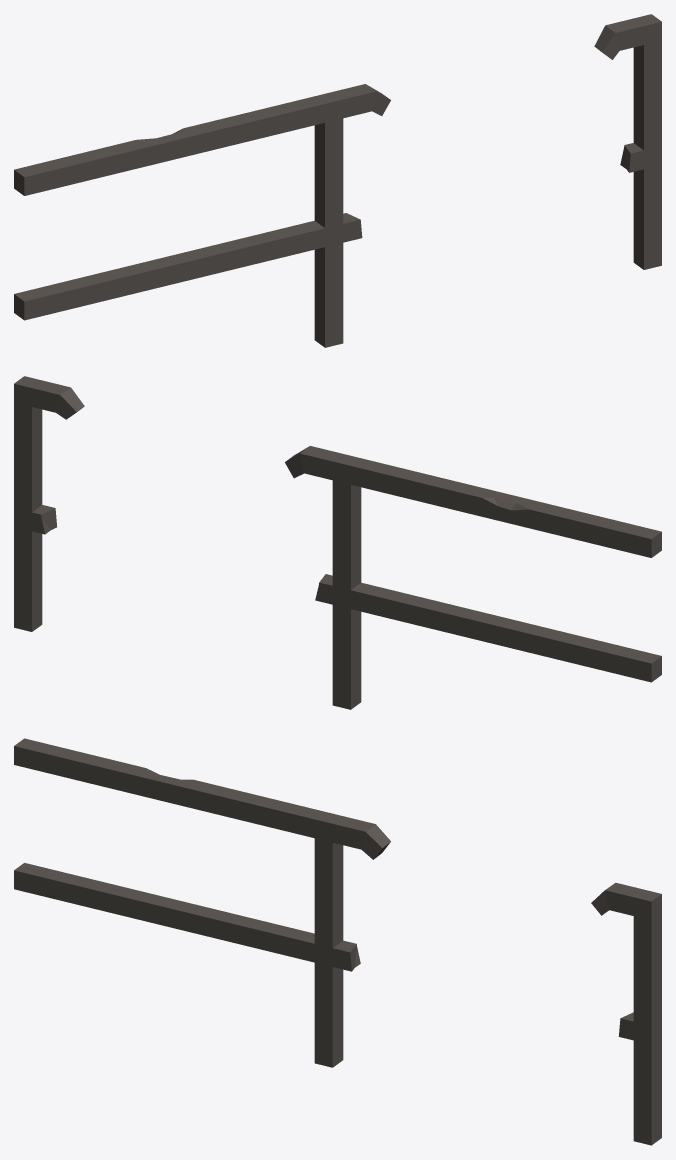
Rendered from Wh_Safety_Rail_Damaged.fbx.
3 views of the same model, one above another, from view 1: azimuth 30°, elevation 25°; view 2: azimuth 150°, elevation 25°; view 3: azimuth 330°, elevation 25° (orthographic).
Parts seen in each view (by area): view 1: Cube.672; view 2: Cube.672; view 3: Cube.672.
Part boxes in pixels (left/top/right/bottom): Cube.672: left=14, top=14, right=661, bottom=347; Cube.672: left=14, top=376, right=661, bottom=709; Cube.672: left=14, top=738, right=661, bottom=1145.
Size of the model in its own units: 300 by 110 by 8.77.
